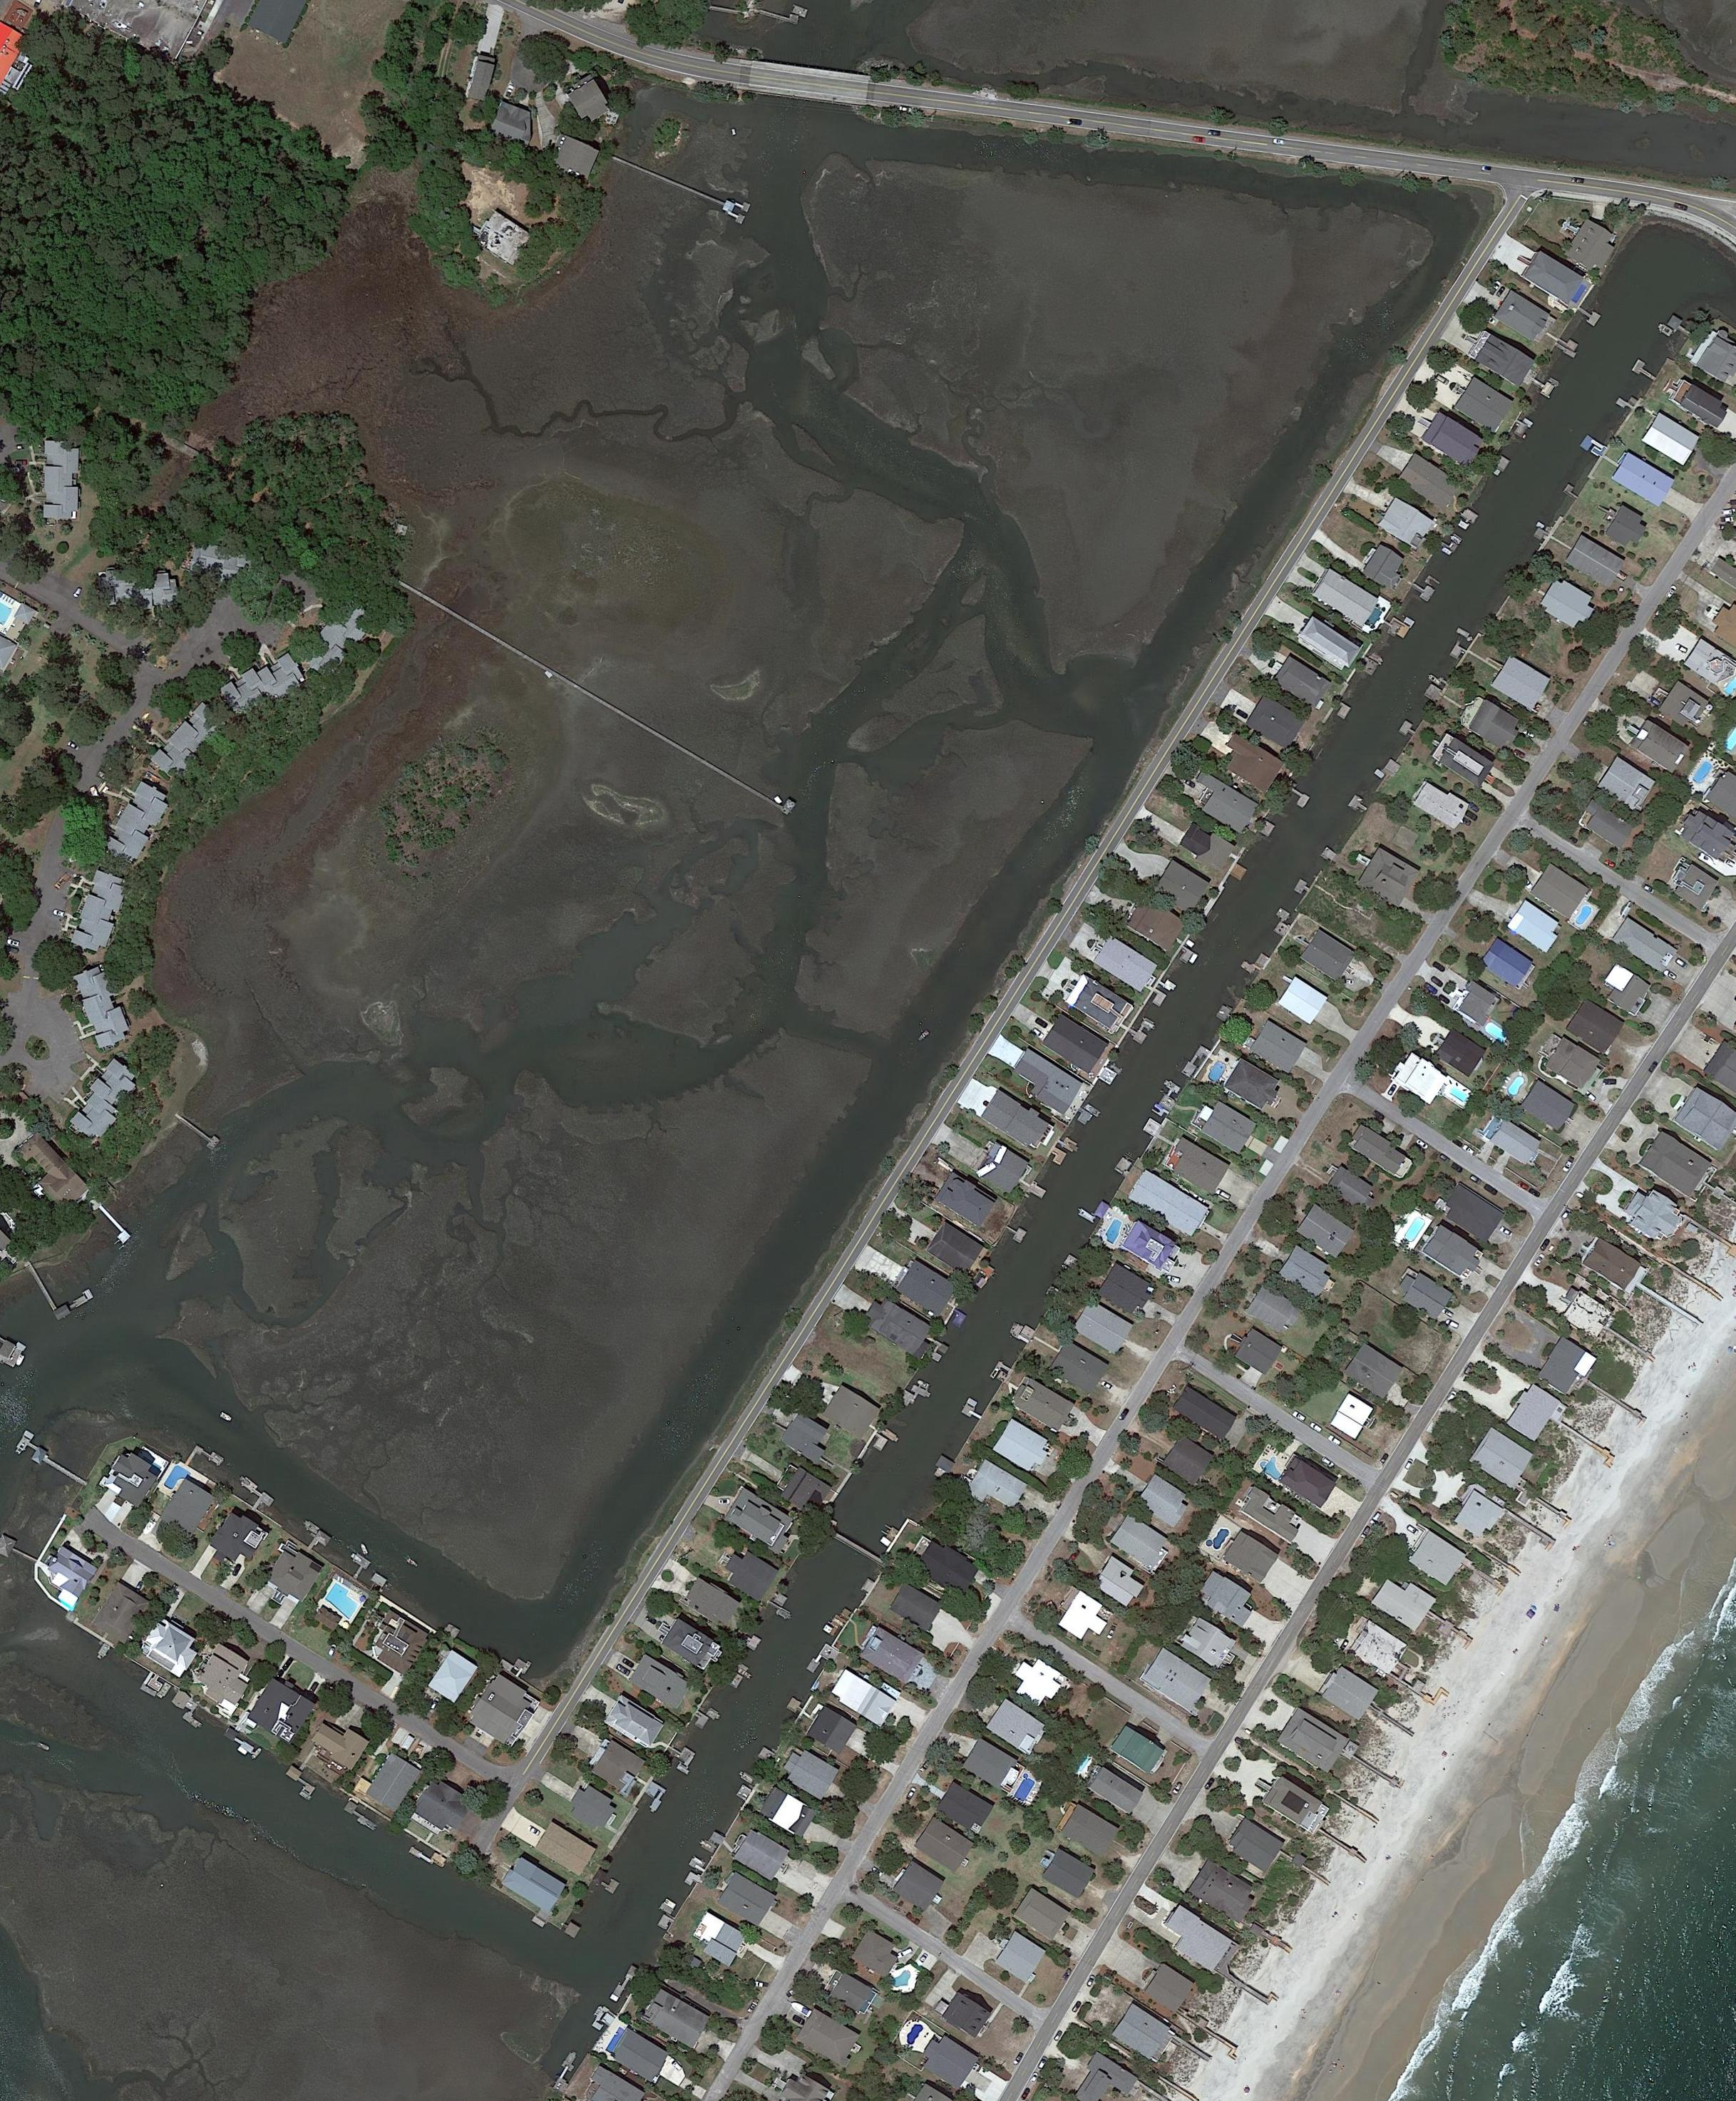harbor: (462, 611, 796, 817), (614, 152, 752, 225), (28, 1244, 96, 1321), (14, 1431, 92, 1488), (232, 1473, 277, 1516), (176, 1112, 222, 1152), (167, 1689, 211, 1729), (185, 1443, 225, 1482), (94, 1204, 133, 1244), (1150, 1080, 1185, 1119), (410, 1839, 448, 1872), (897, 1380, 932, 1415), (295, 1522, 331, 1555), (609, 1963, 637, 2003), (637, 1780, 668, 1815), (824, 1604, 853, 1639), (1078, 1194, 1110, 1225), (1125, 1014, 1157, 1045), (1181, 1045, 1209, 1078), (1240, 948, 1270, 977), (651, 1902, 679, 1933), (497, 1651, 529, 1679), (1268, 907, 1296, 939), (590, 2003, 616, 2035), (344, 1553, 372, 1581), (666, 1740, 696, 1766), (1555, 333, 1582, 359), (557, 2050, 581, 2080), (1382, 614, 1411, 639), (140, 1670, 166, 1696), (1408, 578, 1436, 602), (1579, 435, 1607, 459), (1631, 359, 1659, 384), (1666, 316, 1694, 340), (1575, 304, 1602, 328), (961, 1398, 988, 1422), (923, 1338, 949, 1363), (1008, 1321, 1035, 1345), (932, 1455, 956, 1480), (701, 1829, 724, 1855), (1530, 375, 1556, 398), (972, 1263, 994, 1290), (764, 1600, 792, 1621), (351, 1811, 379, 1832), (1003, 1222, 1028, 1244), (740, 1630, 762, 1653), (1616, 391, 1638, 414), (1286, 787, 1310, 808), (1349, 794, 1371, 815), (1357, 654, 1380, 675), (991, 1361, 1012, 1384), (698, 1703, 722, 1722), (600, 1874, 621, 1895), (366, 1572, 387, 1593), (691, 1710, 710, 1731), (820, 1644, 841, 1663), (295, 1776, 316, 1796), (1331, 700, 1352, 719), (1398, 721, 1418, 740), (1057, 1134, 1078, 1153), (1115, 1157, 1134, 1178), (1143, 1117, 1162, 1138), (1174, 946, 1195, 965), (878, 1426, 900, 1443), (562, 1920, 581, 1939), (689, 1855, 708, 1874), (441, 1621, 461, 1640), (869, 1433, 888, 1452), (1256, 818, 1275, 838), (1424, 684, 1443, 703), (1460, 506, 1480, 525), (949, 1309, 968, 1328), (1073, 1106, 1092, 1126), (1148, 988, 1167, 1007), (234, 1736, 255, 1754), (1511, 419, 1528, 440), (757, 1747, 776, 1764), (787, 1698, 806, 1715), (1439, 536, 1459, 553), (1230, 862, 1247, 881), (1295, 878, 1312, 897), (1028, 1181, 1047, 1199), (1099, 1066, 1117, 1085), (808, 1653, 824, 1673), (684, 1871, 701, 1888), (771, 1590, 789, 1607), (1450, 644, 1467, 661), (1493, 455, 1511, 473), (1563, 483, 1581, 501), (1049, 1148, 1066, 1166), (1158, 975, 1176, 993), (738, 1769, 757, 1785), (96, 1642, 112, 1661), (736, 1785, 754, 1801), (1321, 846, 1338, 862), (1534, 527, 1551, 543), (1216, 1005, 1232, 1023), (1064, 1255, 1080, 1270), (729, 1673, 743, 1689), (862, 1579, 876, 1595), (886, 1527, 900, 1543)
ship: (790, 2000, 815, 2019), (16, 1352, 28, 1368), (407, 1557, 420, 1569), (359, 1543, 370, 1557), (220, 1412, 234, 1422)
